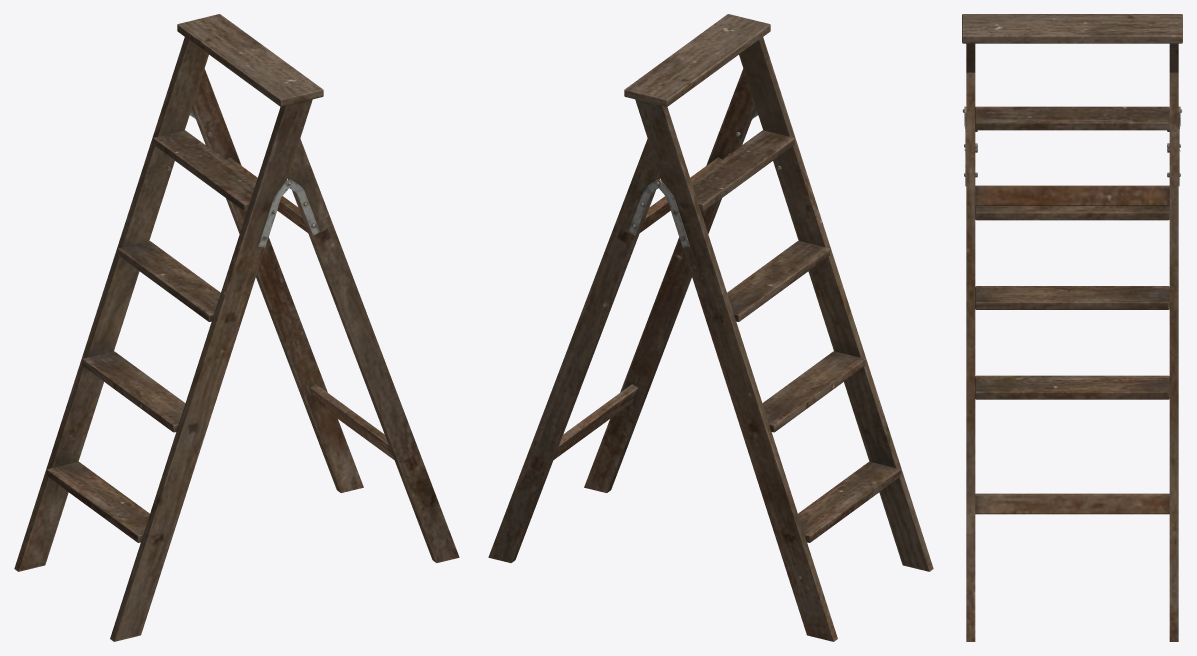
The model's file is wooden_ladder.glb.
3 views of the same model, side by side, from view 1: azimuth 30°, elevation 25°; view 2: azimuth 150°, elevation 25°; view 3: azimuth 270°, elevation 25° (orthographic). The views are drawn at different scales.
Visible parts, largest first — view 1: wooden_ladder_steps, wooden_ladder_supports; view 2: wooden_ladder_steps, wooden_ladder_supports; view 3: wooden_ladder_steps, wooden_ladder_supports.
Boxes of the visible parts, x1=… form: wooden_ladder_steps: x1=14, y1=14, x2=323, y2=641; wooden_ladder_supports: x1=190, y1=68, x2=459, y2=562; wooden_ladder_steps: x1=624, y1=14, x2=933, y2=641; wooden_ladder_supports: x1=488, y1=68, x2=757, y2=562; wooden_ladder_steps: x1=962, y1=14, x2=1182, y2=399; wooden_ladder_supports: x1=962, y1=72, x2=1181, y2=641.
Bounding box in the file's own units: 0.9592 × 1.33 × 0.5.
1 material, 1 textured.
